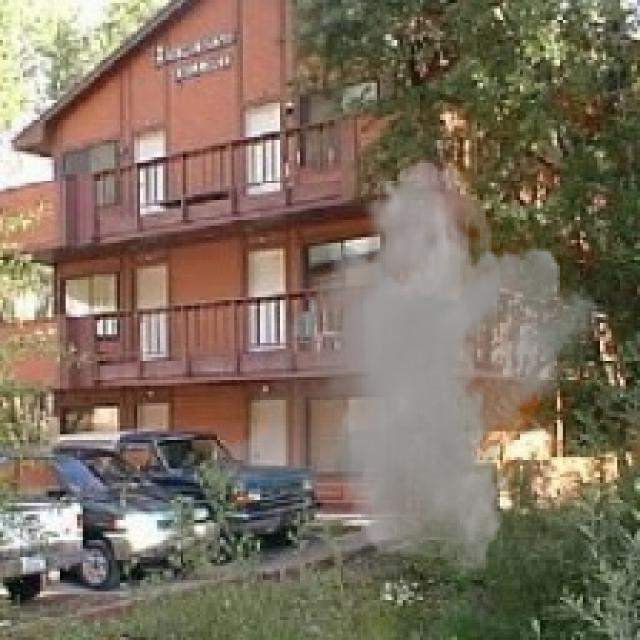Smoke: (208, 160, 612, 577)
